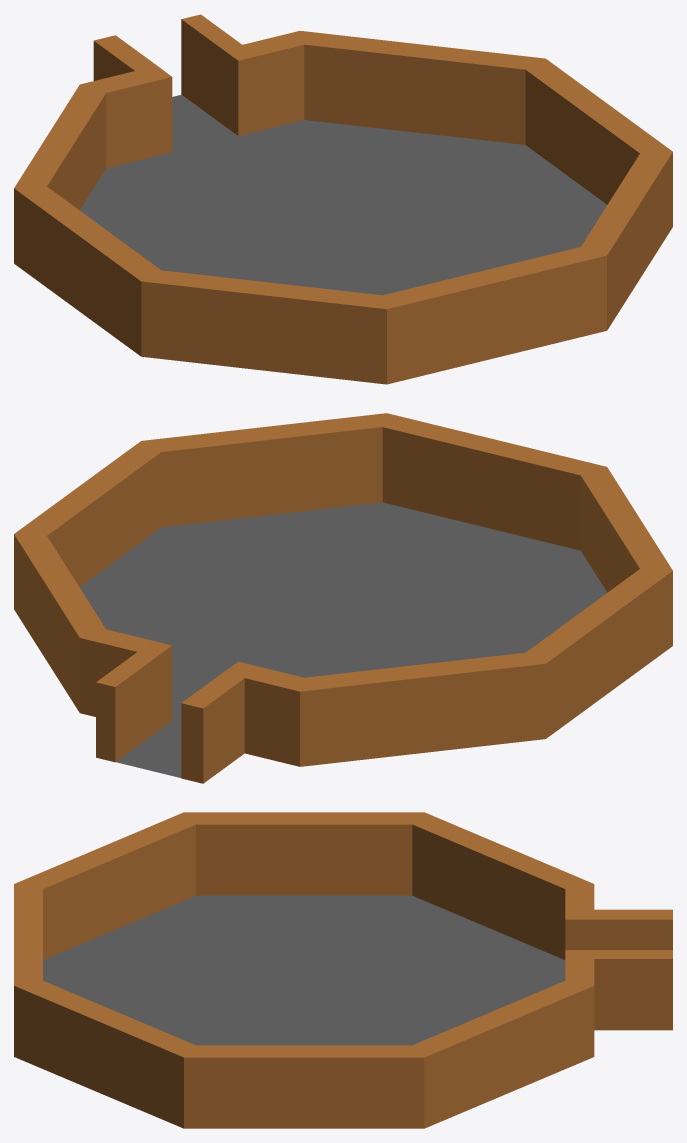
File: Room.fbx
3 views of the same model, one above another, from view 1: azimuth 30°, elevation 25°; view 2: azimuth 150°, elevation 25°; view 3: azimuth 270°, elevation 25° (orthographic). The views are drawn at different scales.
Parts seen in each view (by area): view 1: Room; view 2: Room; view 3: Room.
Boxes of the visible parts, x1,y1,x2,y2 form: Room: [14, 14, 672, 384]; Room: [14, 413, 672, 783]; Room: [14, 812, 672, 1128].
Size of the model in its own units: 185 by 25 by 210.
